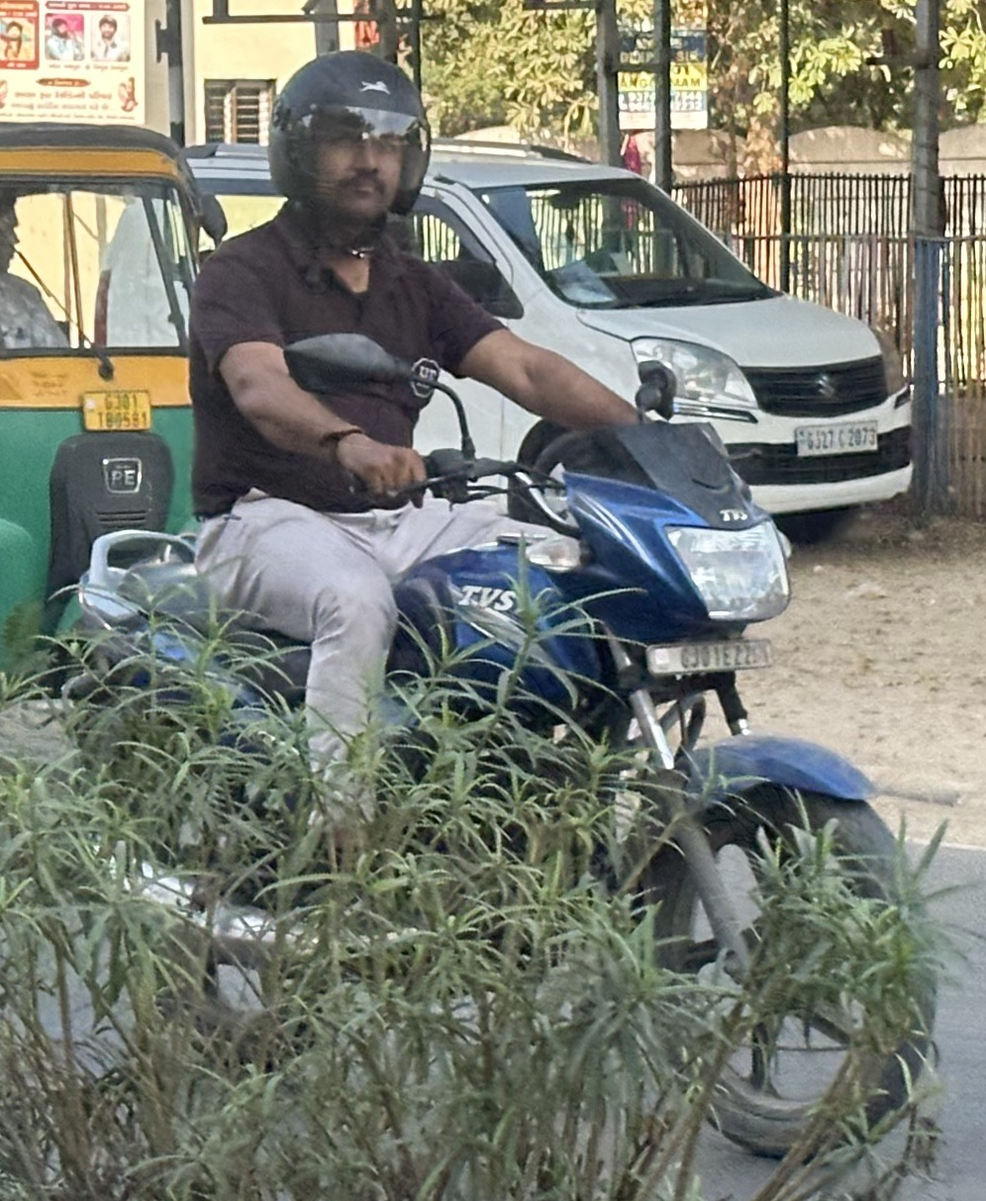BikeWithRider: (34, 36, 959, 1198)
Helmet: (252, 39, 448, 255)
